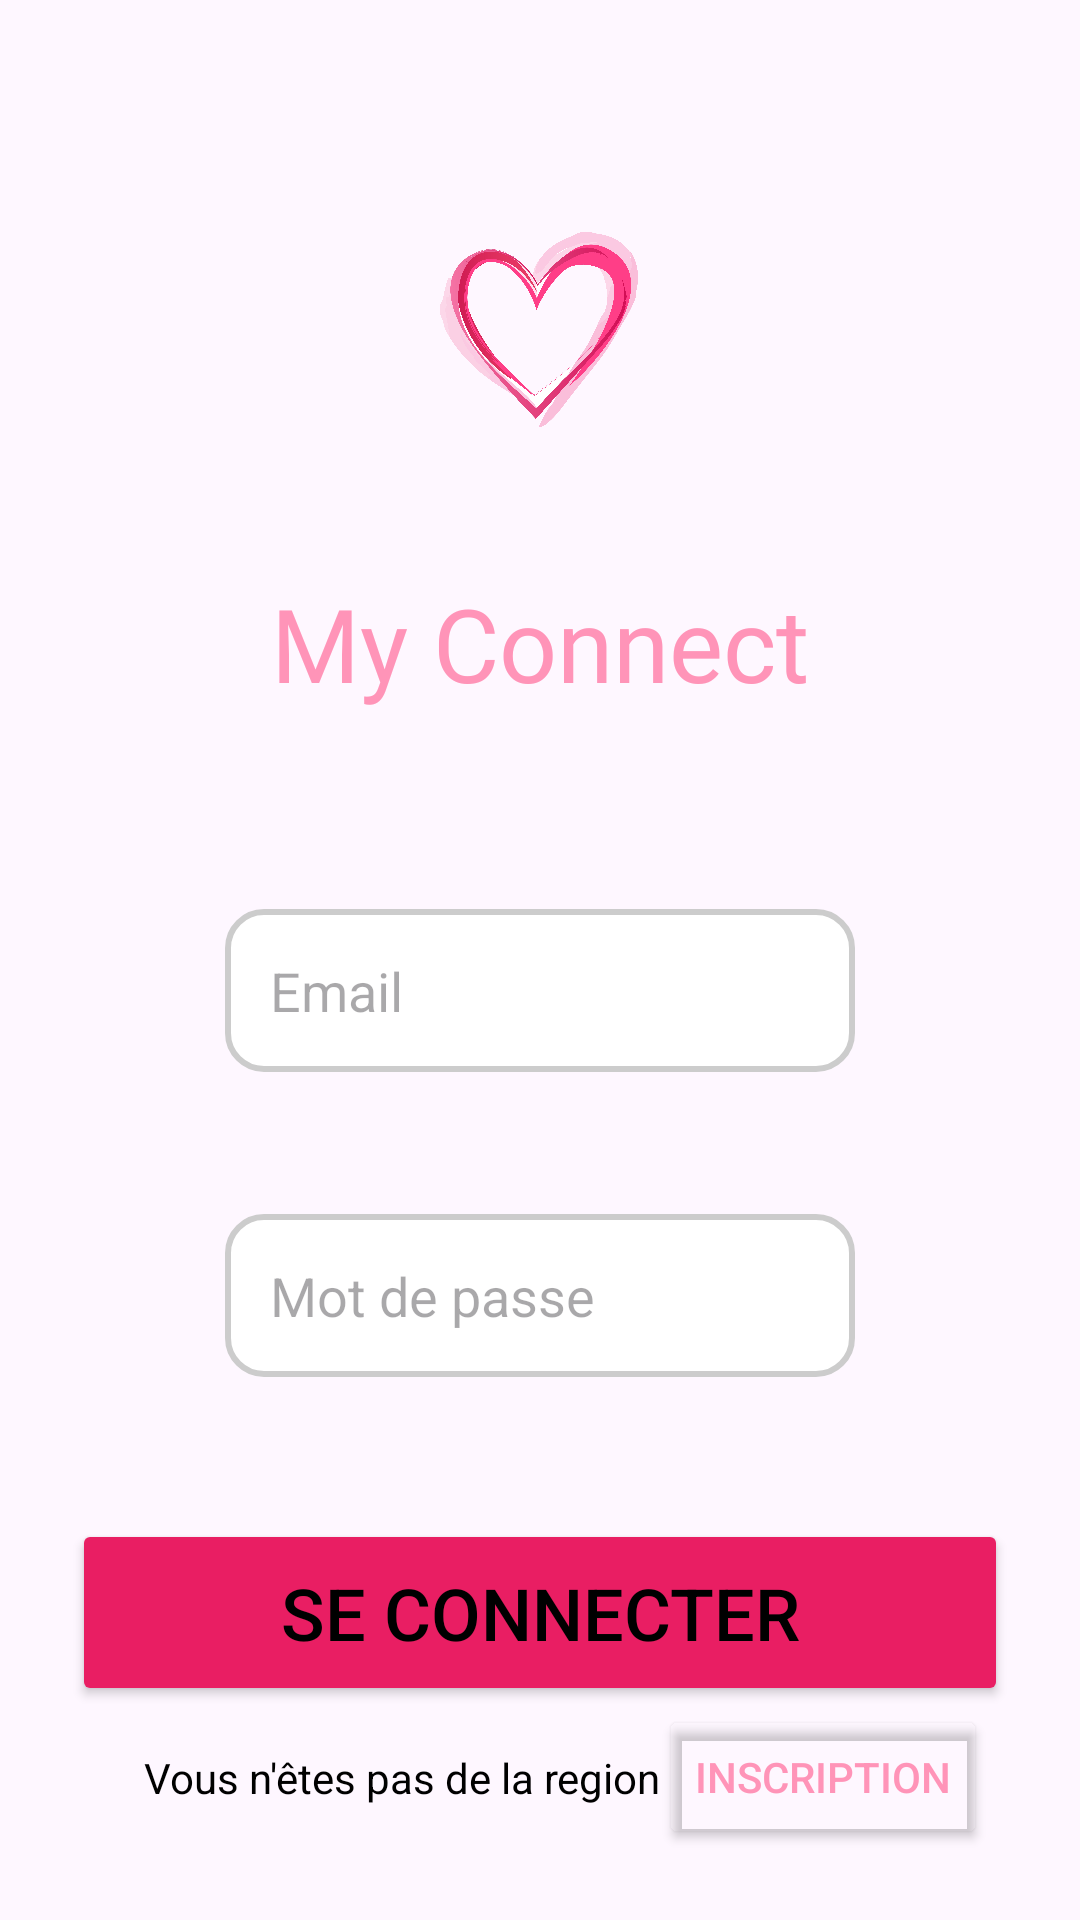

Icons on this 1080*1920 Android screen, each with the point to tap as point (x, y):
coeur: point (539, 329)
